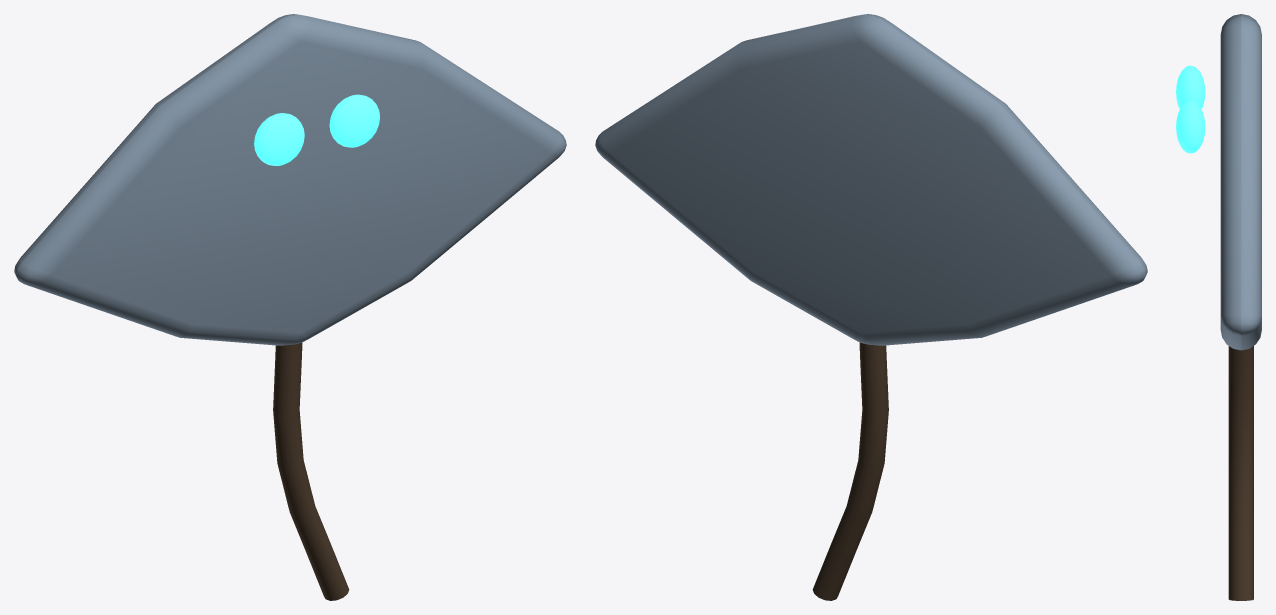
The model's file is aquatic_v4.glb.
3 views of the same model, side by side, from view 1: azimuth 30°, elevation 25°; view 2: azimuth 150°, elevation 25°; view 3: azimuth 270°, elevation 25° (orthographic). The views are drawn at different scales.
Visible parts, largest first — view 1: RAY_BODY_PRIMARY, RAY_TAIL_SECONDARY, EYE_EMISSIVE.001, EYE_EMISSIVE; view 2: RAY_BODY_PRIMARY, RAY_TAIL_SECONDARY; view 3: RAY_BODY_PRIMARY, RAY_TAIL_SECONDARY, EYE_EMISSIVE.001, EYE_EMISSIVE.
Boxes of the visible parts, bbox=[...] form: RAY_BODY_PRIMARY: bbox=[14, 14, 566, 345]; RAY_TAIL_SECONDARY: bbox=[273, 342, 349, 600]; EYE_EMISSIVE.001: bbox=[329, 94, 379, 147]; EYE_EMISSIVE: bbox=[254, 113, 304, 165]; RAY_BODY_PRIMARY: bbox=[595, 14, 1147, 345]; RAY_TAIL_SECONDARY: bbox=[812, 342, 888, 600]; RAY_BODY_PRIMARY: bbox=[1220, 14, 1261, 350]; RAY_TAIL_SECONDARY: bbox=[1228, 346, 1253, 600]; EYE_EMISSIVE.001: bbox=[1176, 100, 1205, 153]; EYE_EMISSIVE: bbox=[1176, 65, 1205, 108].
Bounding box in the file's own units: 2.04 × 2.11 × 0.2918.
